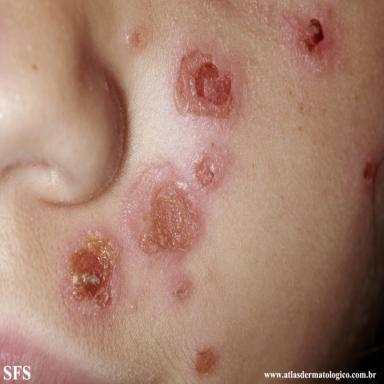Impetigo: (121, 148, 228, 260), (173, 42, 245, 126), (60, 230, 123, 317), (287, 4, 344, 77), (352, 146, 382, 206), (125, 23, 149, 51), (195, 349, 217, 374), (173, 278, 191, 304)
